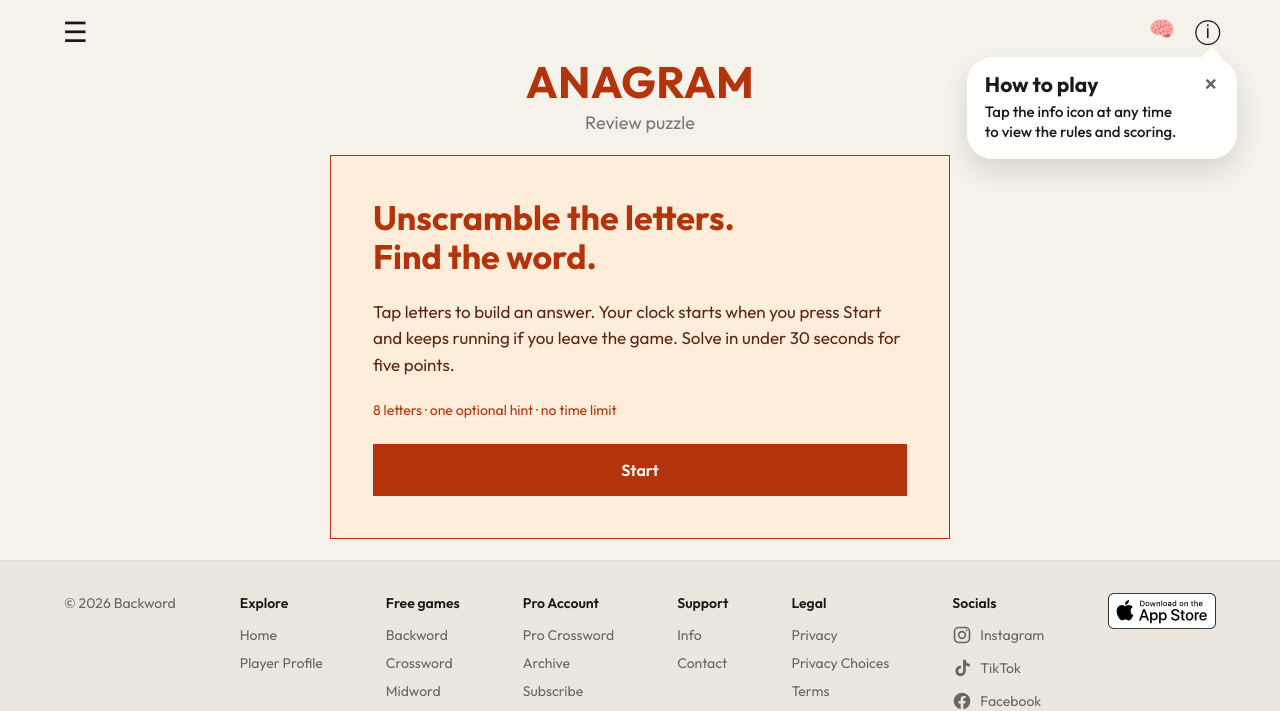
Test: Backword website routes › dismisses the Anagram information tip from its close button
Expected: the tooltip is shown, [985,73,1183,143]
Click the button named "Close tooltip": {"x": 1211, "y": 83} [1189,61,1233,105]
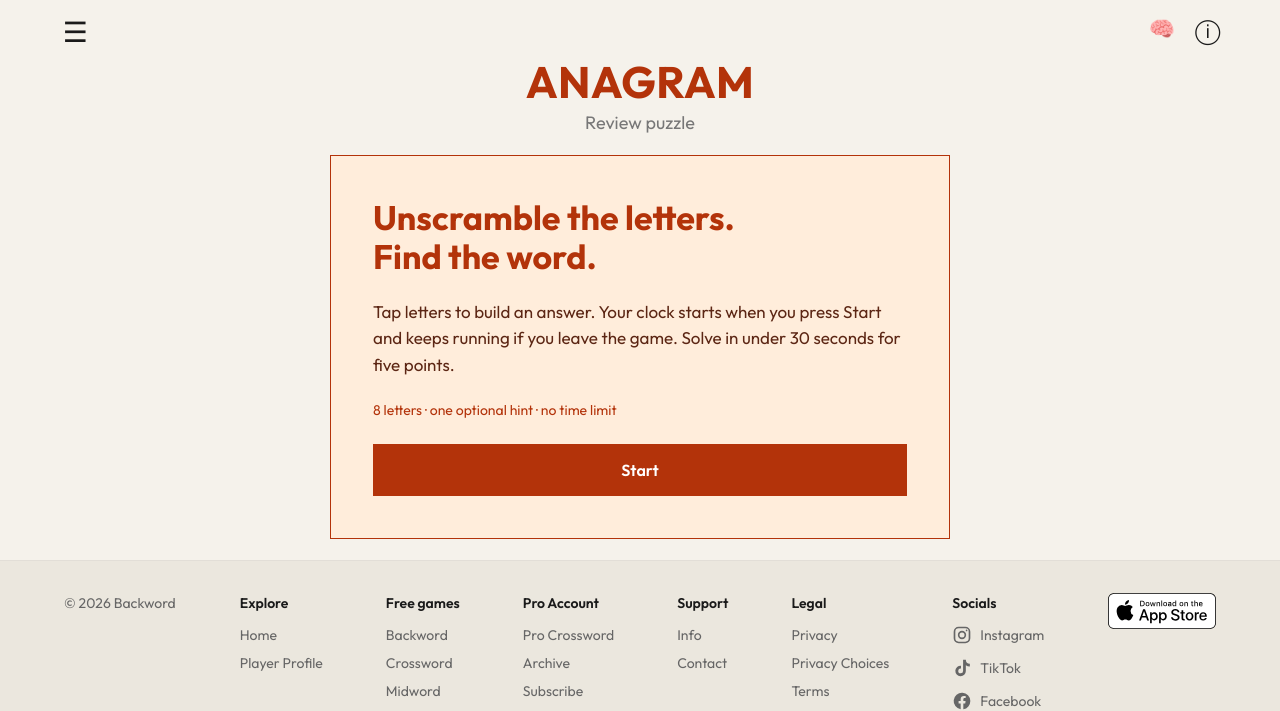
Expected: the tooltip "How to play Tap the info icon at any time to view the rules and scoring." is gone
